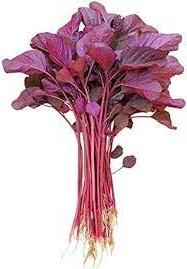amaranth: (1, 0, 185, 268), (61, 112, 119, 268)
